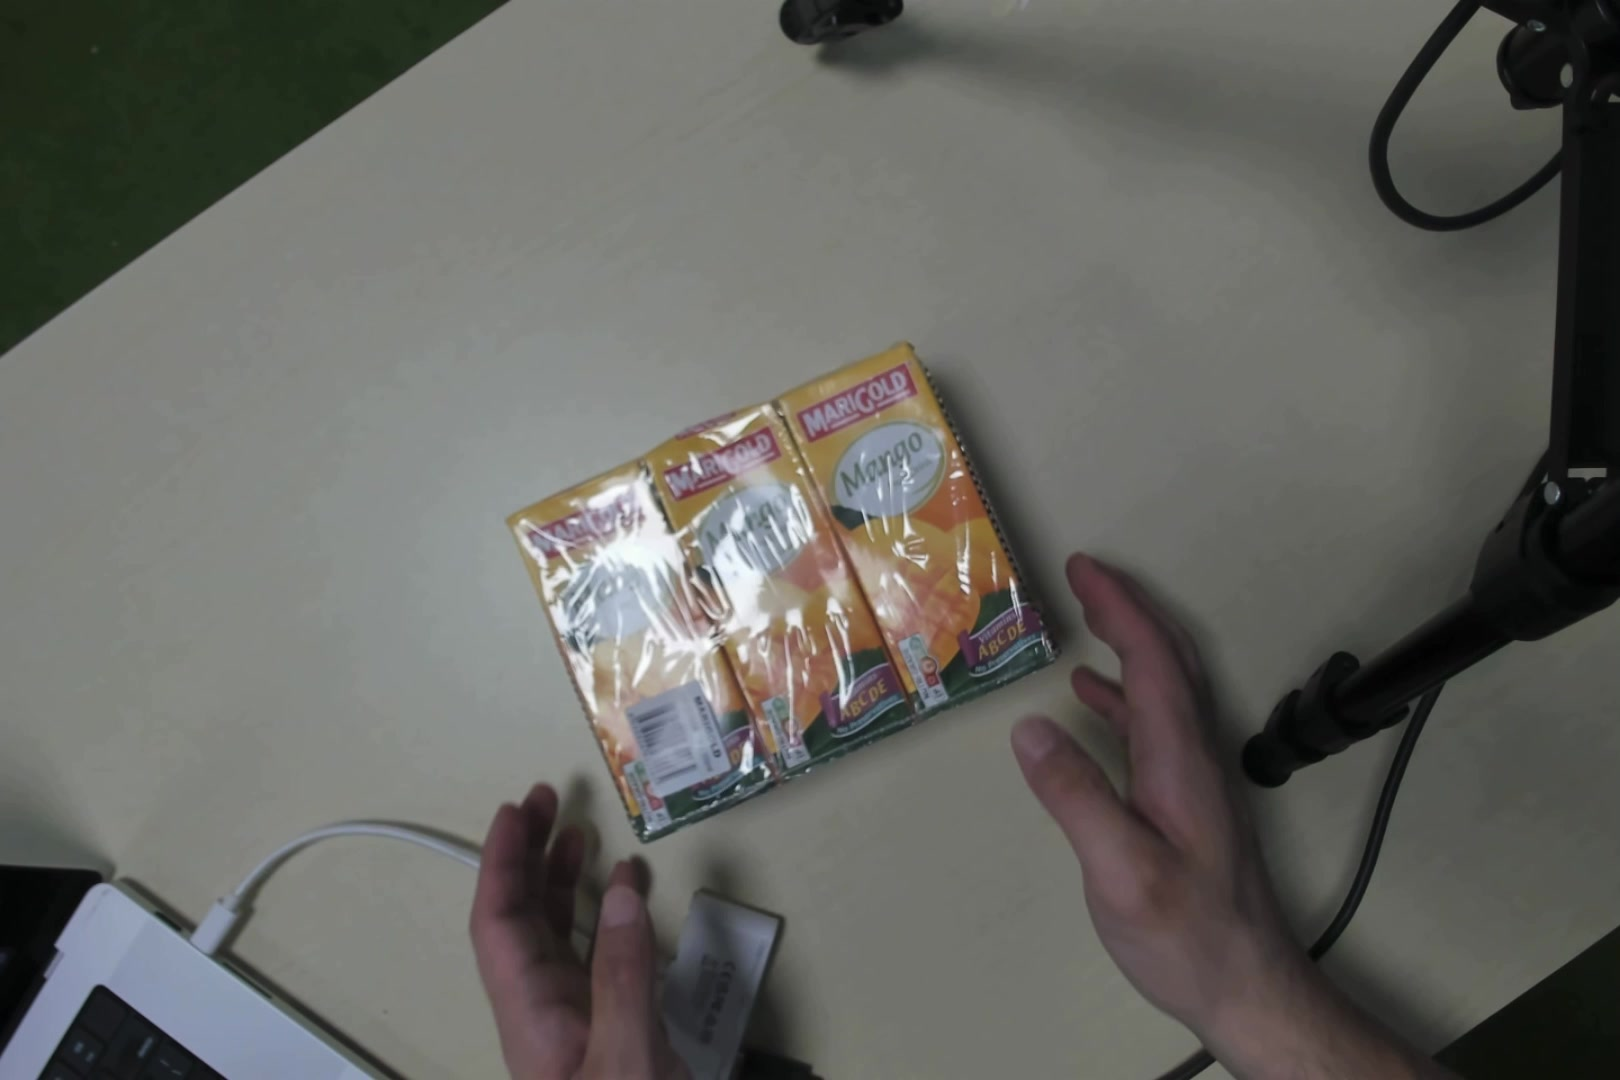FruitJuice_700-799g_Halal_NonHealthy: (551, 350, 1026, 788)
